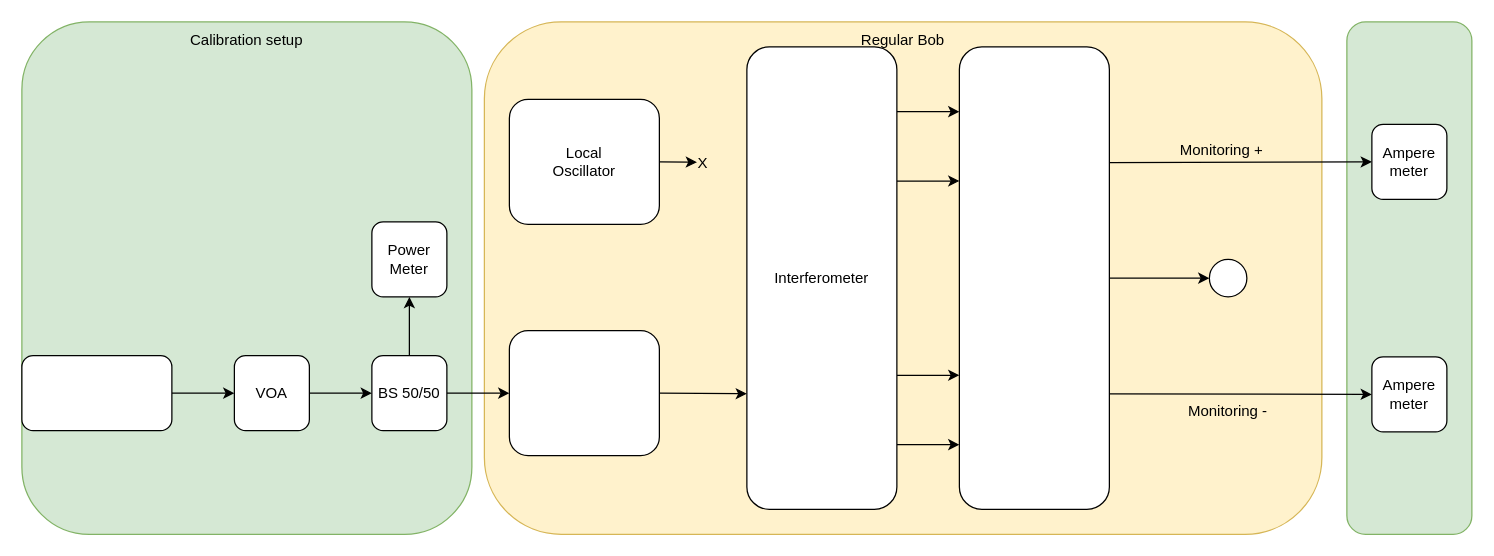
The diagram is 1494 pixels wide and 556 high, and some of its shapes have lost their labels. The shapes that lost their labels are listed below. From the top down, each one's centre as x and y in pixels, then its label:
At (1033,277): "Balanced detection".
At (96,392): "Laser".
At (583,392): "Switch".
